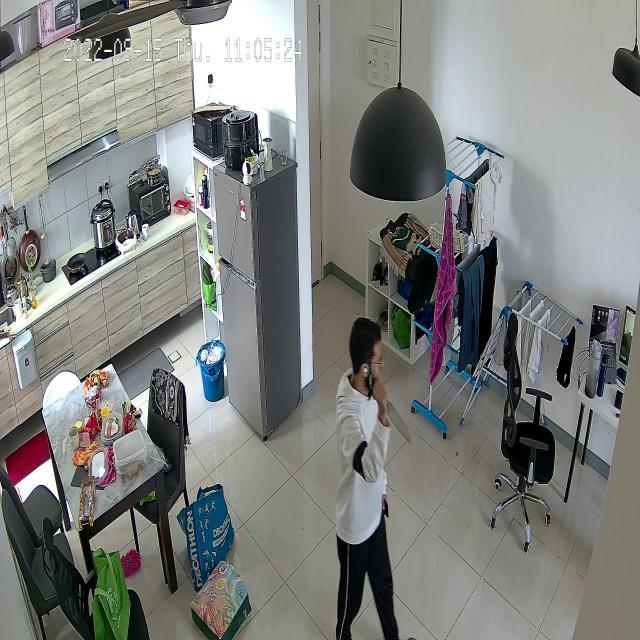Knife: (367, 372, 416, 442)
